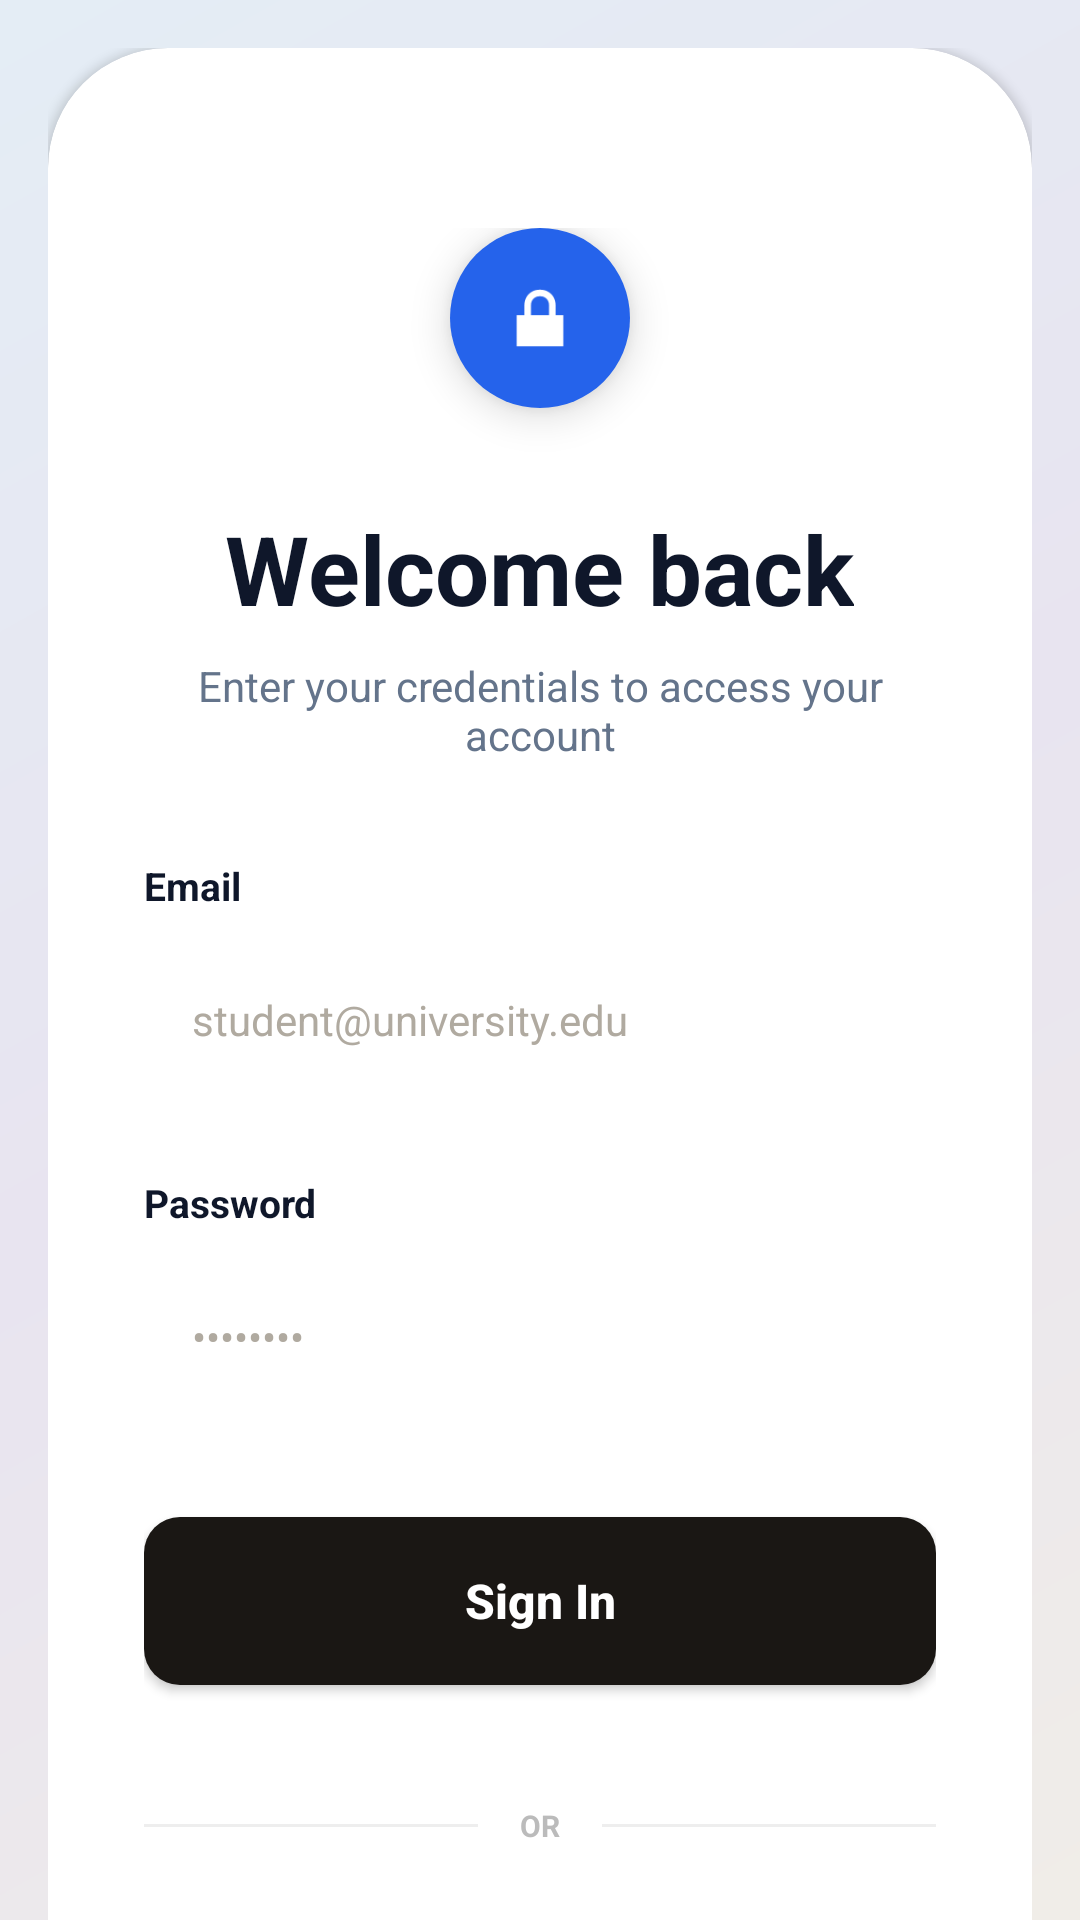

Point at icon controls on the screen. Image size 1080*1920, points as [x,y].
lock: [540,318]
